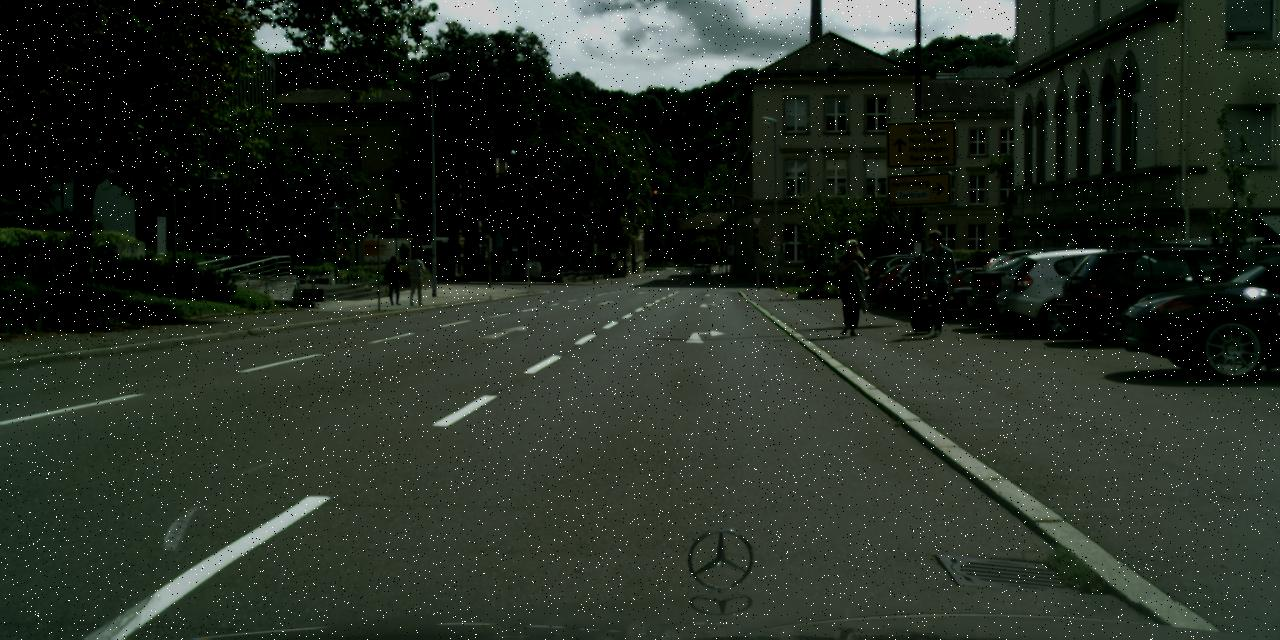ped: (914, 229, 957, 334), (830, 238, 869, 334), (405, 250, 426, 304), (384, 256, 404, 304), (572, 264, 577, 278)
